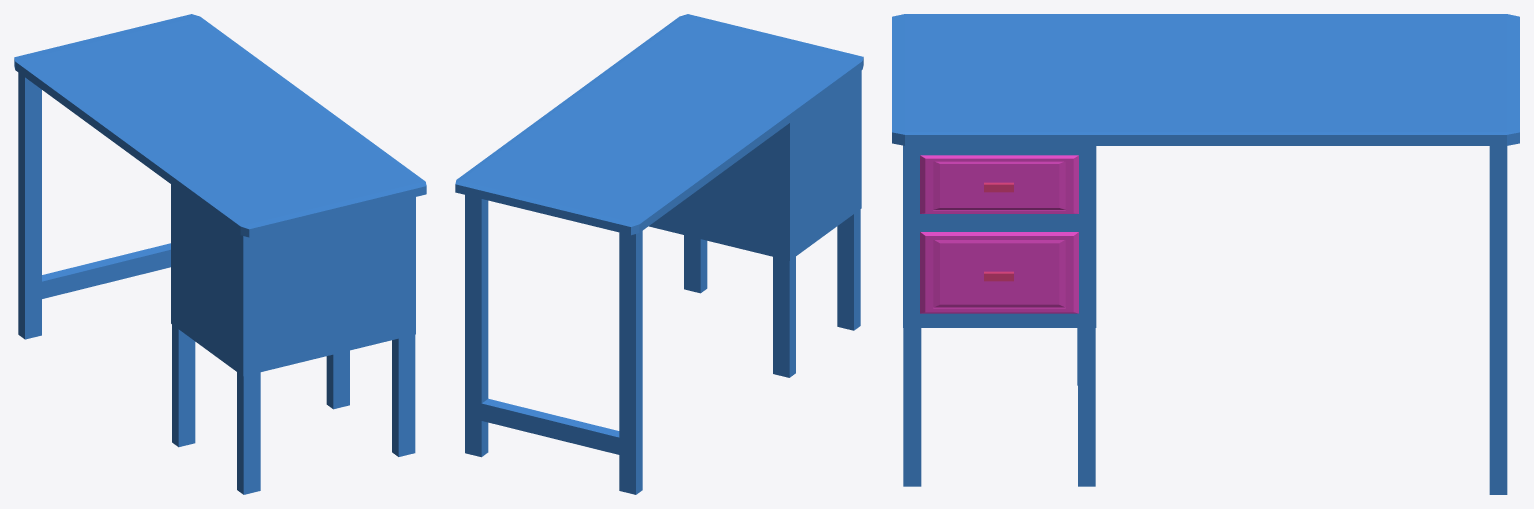
Rendered from kids desk.fbx.
3 views of the same model, side by side, from view 1: azimuth 30°, elevation 25°; view 2: azimuth 150°, elevation 25°; view 3: azimuth 270°, elevation 25° (orthographic). The views are drawn at different scales.
Visible parts, largest first — view 1: desk top, big body, short legs, long legs; view 2: desk top, big body, long legs, short legs; view 3: desk top, drawers, big body, long legs, short legs.
Boxes of the visible parts, box(x1,y1,x2,y2) form: desk top: box(14, 14, 426, 237); big body: box(171, 184, 415, 376); short legs: box(172, 324, 415, 494); long legs: box(18, 72, 170, 339); desk top: box(455, 14, 863, 235); big body: box(649, 70, 861, 260); long legs: box(465, 195, 642, 494); short legs: box(684, 209, 860, 377); desk top: box(892, 14, 1519, 145); drawers: box(920, 155, 1078, 313); big body: box(903, 145, 1096, 327); long legs: box(1489, 146, 1507, 494); short legs: box(903, 328, 1095, 486).
Bounding box in the file's own units: 242 × 342 × 532.
